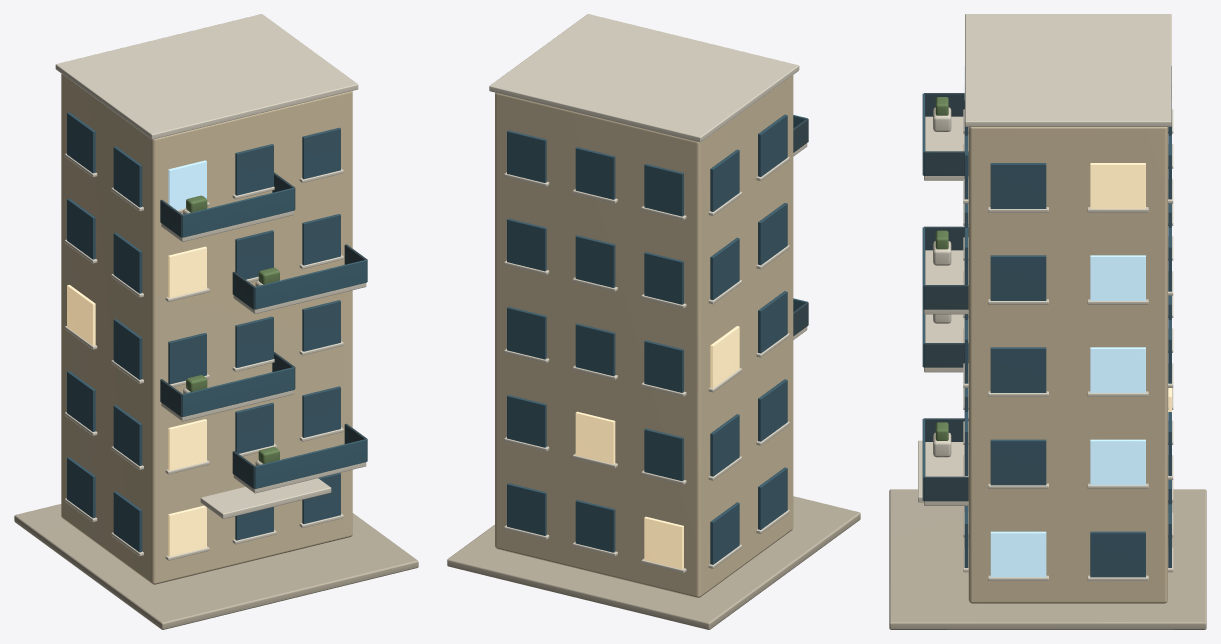
The model's file is apartment.glb.
3 views of the same model, side by side, from view 1: azimuth 30°, elevation 25°; view 2: azimuth 150°, elevation 25°; view 3: azimuth 270°, elevation 25° (orthographic). The views are drawn at different scales.
Parts seen in each view (by area): view 1: apartment_Building_Volume, apartment_Roof_Coping, apartment_Site_Paving, apartment_Balcony_Glass, apartment_Balcony_Glass.002, apartment_Balcony_Glass.003, apartment_Balcony_Glass.001, apartment_Entrance_Canopy, apartment_Window_Recess.011, apartment_Window_Recess.025, apartment_Window_Recess.035, apartment_Window_Recess.043 (+29 smaller); view 2: apartment_Building_Volume, apartment_Roof_Coping, apartment_Site_Paving, apartment_Window_Recess.002, apartment_Window_Recess.032, apartment_Window_Recess.042, apartment_Window_Recess.012, apartment_Window_Recess.022, apartment_Window_Recess, apartment_Window_Recess.034, apartment_Window_Recess.004, apartment_Window_Recess.010 (+16 smaller); view 3: apartment_Building_Volume, apartment_Roof_Coping, apartment_Site_Paving, apartment_Window_Recess.009, apartment_Window_Recess.019, apartment_Window_Recess.007, apartment_Window_Recess.017, apartment_Window_Recess.029, apartment_Window_Recess.039, apartment_Window_Recess.049, apartment_Window_Recess.027, apartment_Window_Recess.037 (+12 smaller).
Boxes of the visible parts, left/top/right/bottom form: apartment_Building_Volume: left=61, top=74, right=352, bottom=584; apartment_Roof_Coping: left=55, top=14, right=358, bottom=139; apartment_Site_Paving: left=14, top=504, right=418, bottom=629; apartment_Balcony_Glass: left=254, top=439, right=367, bottom=488; apartment_Balcony_Glass.002: left=254, top=259, right=367, bottom=309; apartment_Balcony_Glass.003: left=182, top=187, right=294, bottom=237; apartment_Balcony_Glass.001: left=182, top=367, right=294, bottom=416; apartment_Entrance_Canopy: left=200, top=478, right=331, bottom=518; apartment_Window_Recess.011: left=168, top=419, right=206, bottom=470; apartment_Window_Recess.025: left=302, top=300, right=340, bottom=351; apartment_Window_Recess.035: left=302, top=214, right=340, bottom=265; apartment_Window_Recess.043: left=235, top=144, right=273, bottom=195; apartment_Building_Volume: left=495, top=75, right=793, bottom=597; apartment_Roof_Coping: left=489, top=14, right=799, bottom=142; apartment_Site_Paving: left=447, top=496, right=860, bottom=629; apartment_Window_Recess.002: left=575, top=500, right=615, bottom=552; apartment_Window_Recess.032: left=575, top=235, right=615, bottom=287; apartment_Window_Recess.042: left=575, top=147, right=615, bottom=199; apartment_Window_Recess.012: left=575, top=411, right=615, bottom=464; apartment_Window_Recess.022: left=575, top=323, right=615, bottom=376; apartment_Window_Recess: left=644, top=516, right=683, bottom=569; apartment_Window_Recess.034: left=507, top=218, right=546, bottom=271; apartment_Window_Recess.004: left=507, top=483, right=546, bottom=535; apartment_Window_Recess.010: left=644, top=428, right=683, bottom=481; apartment_Building_Volume: left=968, top=127, right=1167, bottom=603; apartment_Roof_Coping: left=965, top=14, right=1171, bottom=126; apartment_Site_Paving: left=889, top=489, right=1206, bottom=629; apartment_Window_Recess.009: left=990, top=531, right=1046, bottom=577; apartment_Window_Recess.019: left=990, top=439, right=1046, bottom=485; apartment_Window_Recess.007: left=1090, top=531, right=1145, bottom=577; apartment_Window_Recess.017: left=1090, top=439, right=1145, bottom=485; apartment_Window_Recess.029: left=990, top=347, right=1046, bottom=392; apartment_Window_Recess.039: left=990, top=255, right=1046, bottom=300; apartment_Window_Recess.049: left=990, top=163, right=1046, bottom=208; apartment_Window_Recess.027: left=1090, top=347, right=1145, bottom=392; apartment_Window_Recess.037: left=1090, top=255, right=1145, bottom=300.
Bounding box in the file's own units: 7.8 × 13.46 × 7.8.
